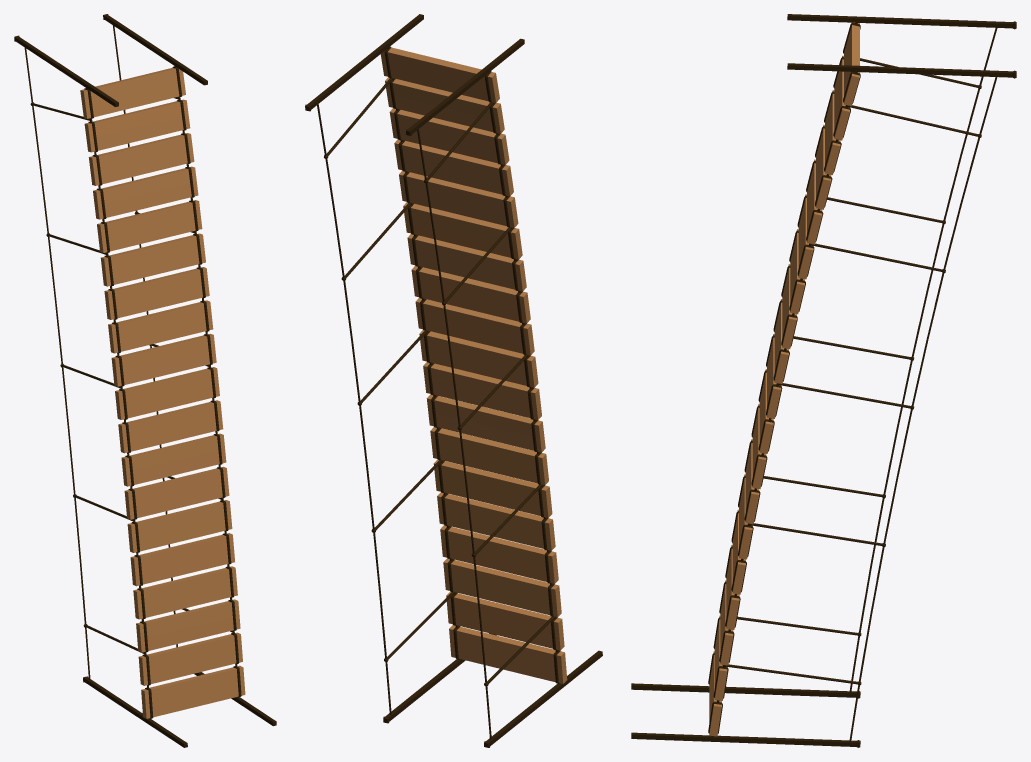
Rendered from Wooden Rope Bridge Small.fbx.
3 renders of one model, left to right at view 1: azimuth 30°, elevation 25°; view 2: azimuth 150°, elevation 25°; view 3: azimuth 270°, elevation 25°, orthographic. The views are drawn at different scales.
Parts seen in each view (by area): view 1: Wooden Rope Bridge Small; view 2: Wooden Rope Bridge Small; view 3: Wooden Rope Bridge Small.
Part boxes in pixels (left/top/right/bottom): Wooden Rope Bridge Small: left=14, top=14, right=276, bottom=747; Wooden Rope Bridge Small: left=305, top=14, right=602, bottom=747; Wooden Rope Bridge Small: left=631, top=14, right=1016, bottom=747.
Size of the model in its own units: 200 by 1164 by 596.
